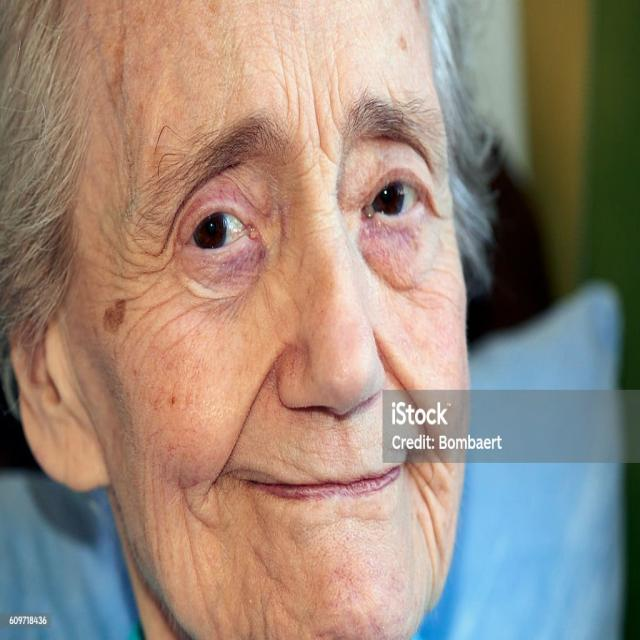Dry-Skin: (382, 266, 496, 464), (268, 523, 426, 640), (202, 0, 364, 111), (130, 238, 234, 390)
